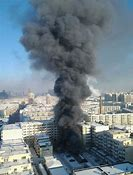smoke: (22, 1, 109, 126)
